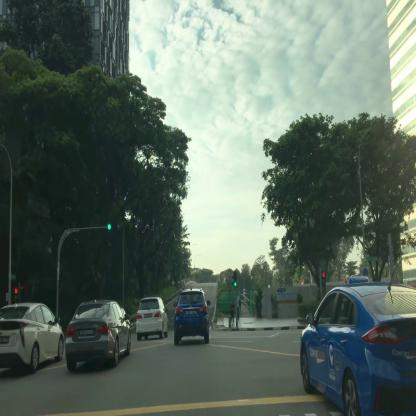green_traffic_light: (106, 222, 119, 230), (233, 271, 236, 286)
